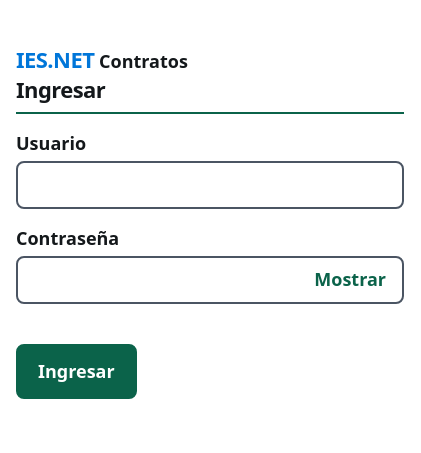
Test: PaginaLogin › shows the server's message inline on invalid credentials
In the field labelled "Usuario": (210, 185) [16,161,404,209], type "tecnico1"
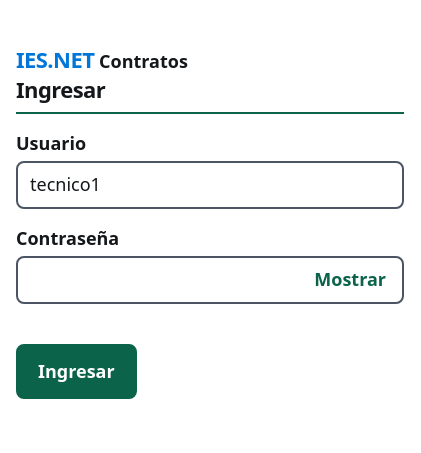
In the password field labelled "Contraseña": (210, 280) [16,256,404,304], type "incorrecta"
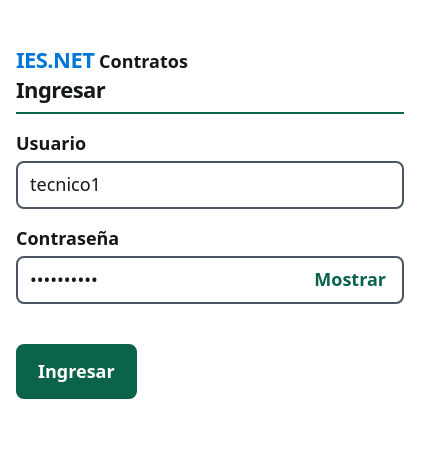
Click the button "Ingresar": (76, 371) [16,344,137,399]
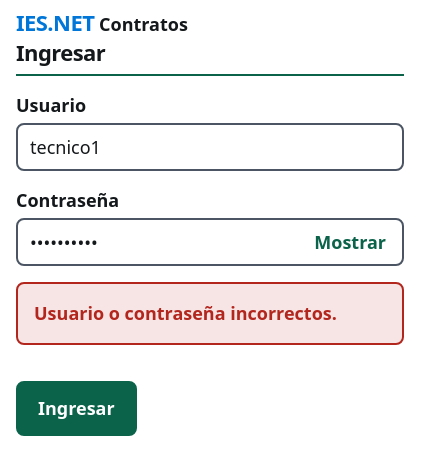
Expected: the text "Usuario o contraseña incorrectos." is shown, [16,282,404,345]
